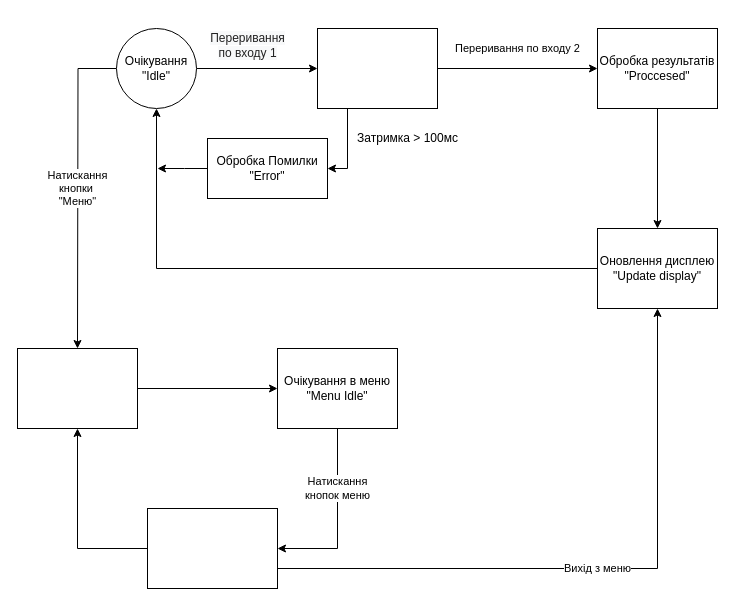
Some shapes in this 735 by 606 pixel diagram are drawn without their labels. The shapes that lost their labels are listed below. From the top down, each one's centre as x and y in pixels, then its label:
(x=377, y=68): Запуск Таймера "Processing"
(x=77, y=388): Відображення меню /Оновлення меню
(x=212, y=548): Оновлення даних та стану меню
